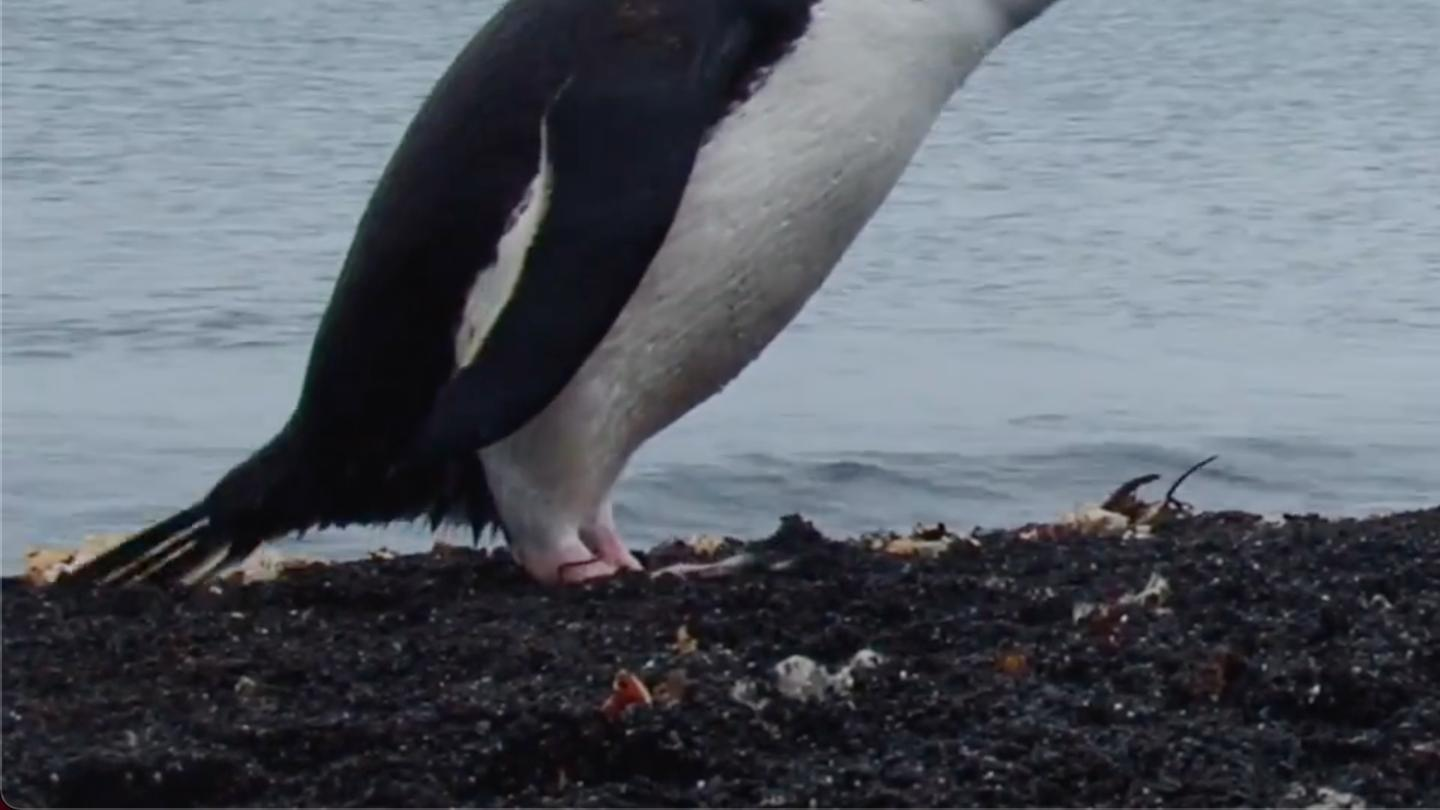Chinstrap Penguin: (58, 0, 1296, 626)
